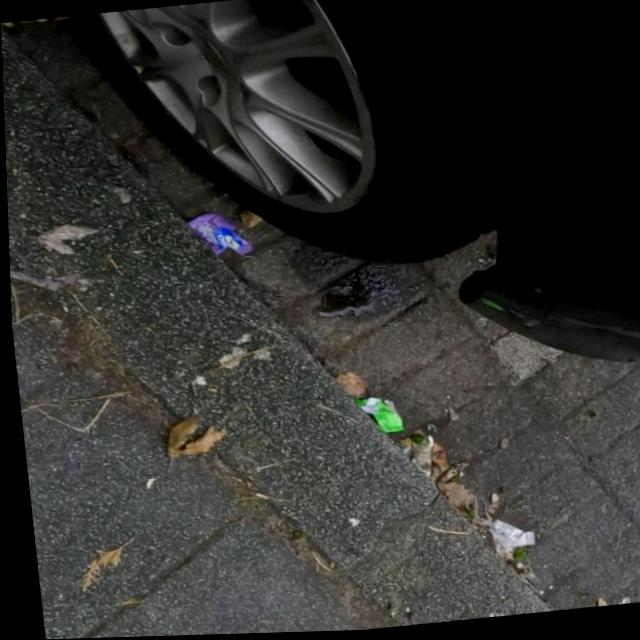Mask: (464, 491, 533, 558)
Plastic: (183, 209, 253, 261), (348, 392, 402, 438)
